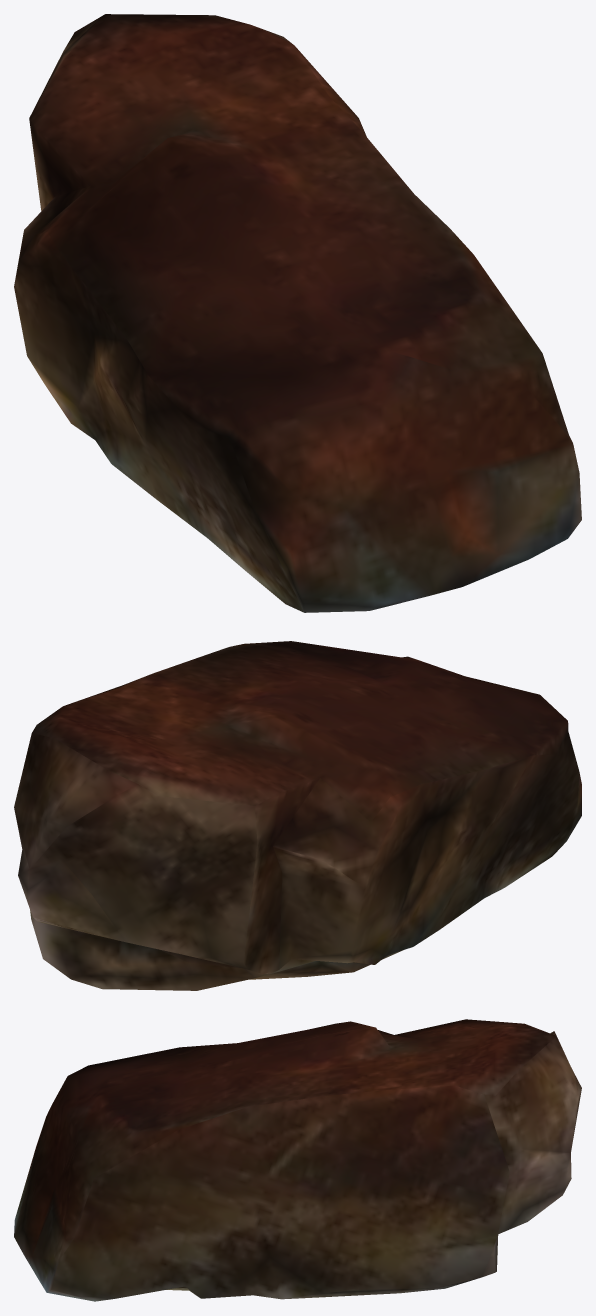
The model's file is rock_07_lod.glb.
The picture shows the model from 3 angles, top to bottom: view 1: azimuth 30°, elevation 25°; view 2: azimuth 150°, elevation 25°; view 3: azimuth 270°, elevation 25°; orthographic projection. The views are drawn at different scales.
Visible parts, largest first — view 1: rock_07; view 2: rock_07; view 3: rock_07.
Boxes of the visible parts, x1,y1,x2,y2 form: rock_07: (14, 14, 581, 612); rock_07: (14, 641, 581, 990); rock_07: (14, 1019, 581, 1301).
Bounding box in the file's own units: 0.1667 × 0.1409 × 0.3194.
1 material, 1 textured.
